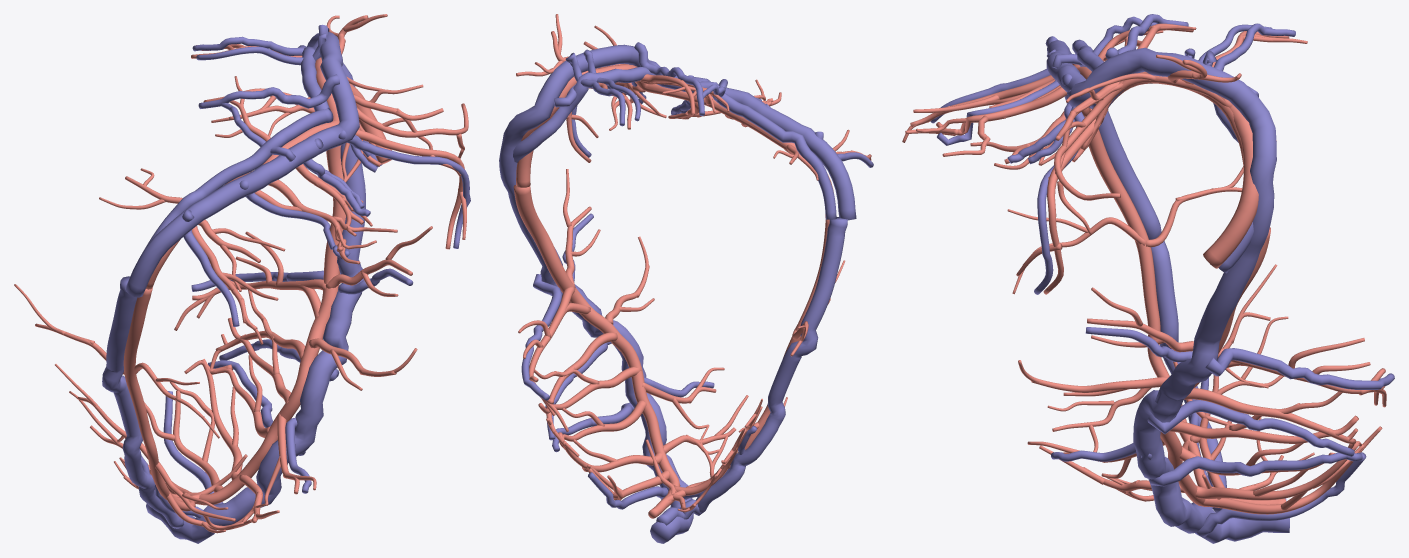
The model's file is vessels_12.glb.
3 renders of one model, left to right at view 1: azimuth 30°, elevation 25°; view 2: azimuth 150°, elevation 25°; view 3: azimuth 270°, elevation 25°, orthographic. The views are drawn at different scales.
Visible parts, largest first — view 1: Renderer Node; view 2: Renderer Node; view 3: Renderer Node.
Part boxes in pixels (left/top/right/bottom): Renderer Node: left=14, top=14, right=470, bottom=543; Renderer Node: left=499, top=14, right=873, bottom=543; Renderer Node: left=902, top=14, right=1394, bottom=543.
Bounding box in the file's own units: 90.33 × 115 × 88.26.
